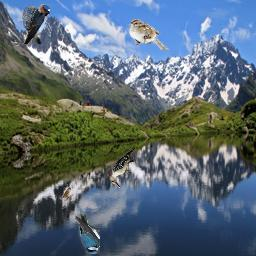Sparrow: (129, 19, 169, 50), (60, 187, 71, 200)
Swallow: (22, 4, 50, 44), (75, 214, 100, 254)
Woodpecker: (109, 148, 136, 188)
